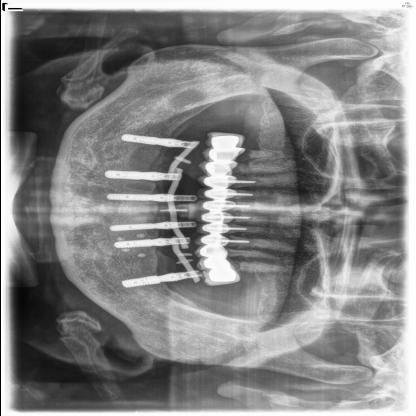ITI: (122, 276, 162, 288), (121, 133, 157, 146), (104, 170, 142, 180), (108, 223, 154, 231), (106, 193, 150, 201), (112, 240, 152, 248)
